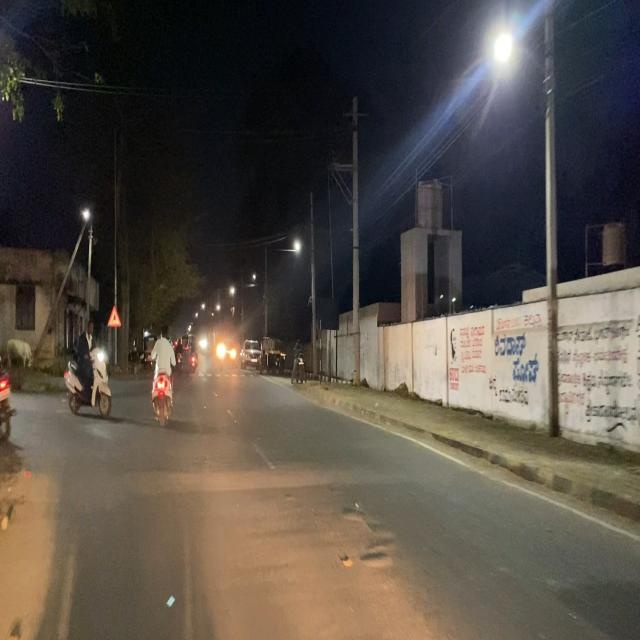bien_nguy_hiem: (107, 304, 122, 327)
